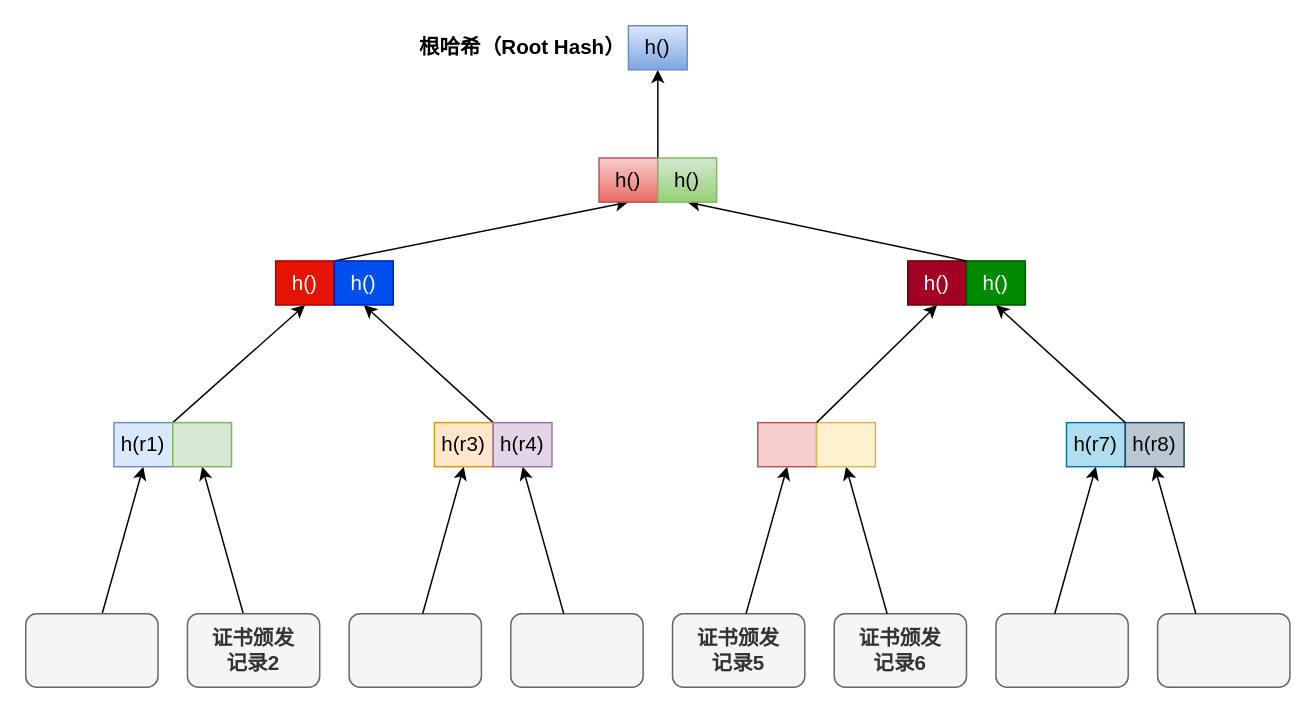
Image size: 1316x713. Some labels were removed from this diagram. Each missing label, with the centre of its shape:
h(r2): (x=201, y=444)
h(r5): (x=786, y=444)
h(r6): (x=845, y=444)
证书颁发 记录1: (x=91, y=649)
证书颁发 记录3: (x=414, y=649)
证书颁发 记录4: (x=576, y=649)
证书颁发 记录7: (x=1061, y=649)
证书颁发 记录8: (x=1223, y=649)
